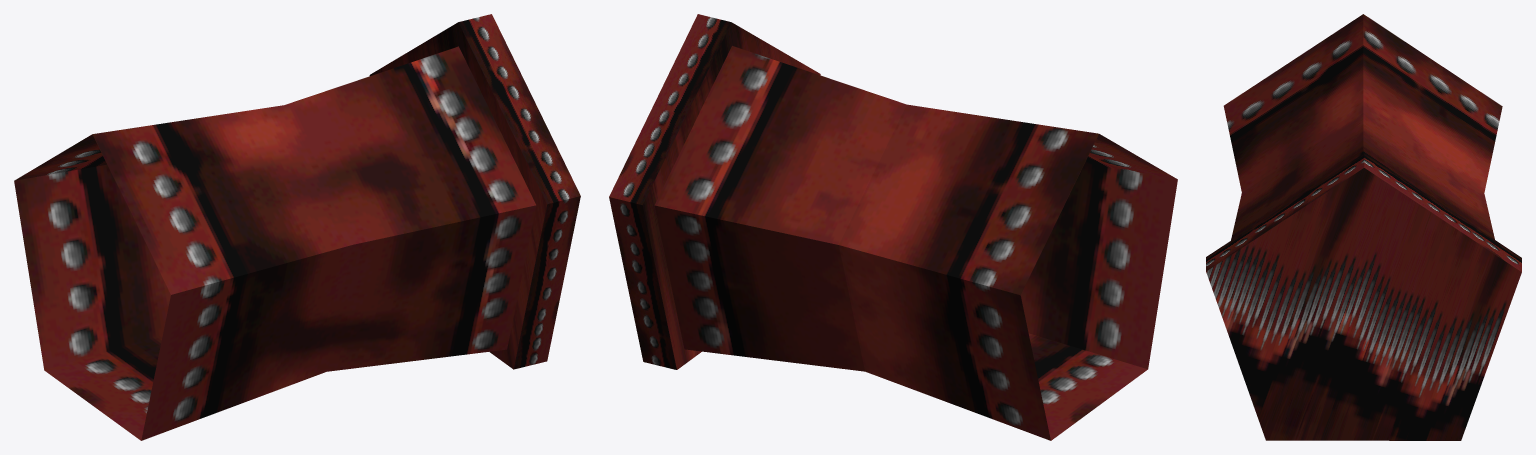
File: Rohr_StückRostigDick [Rot]_1816.glb
3 views of the same model, side by side, from view 1: azimuth 30°, elevation 25°; view 2: azimuth 150°, elevation 25°; view 3: azimuth 270°, elevation 25° (orthographic). The views are drawn at different scales.
Visible parts, largest first — view 1: pCylinderShape77, pCylinderShape78; view 2: pCylinderShape77, pCylinderShape78; view 3: pCylinderShape78, pCylinderShape77.
Boxes of the visible parts, x1,y1,x2,y2 form: pCylinderShape77: [14, 46, 536, 440]; pCylinderShape78: [369, 14, 580, 369]; pCylinderShape77: [654, 46, 1177, 440]; pCylinderShape78: [609, 14, 820, 369]; pCylinderShape78: [1206, 153, 1521, 440]; pCylinderShape77: [1223, 14, 1502, 240].
Size of the model in its own units: 1.04 by 0.7657 by 0.8023.
2 materials, 2 textured.
